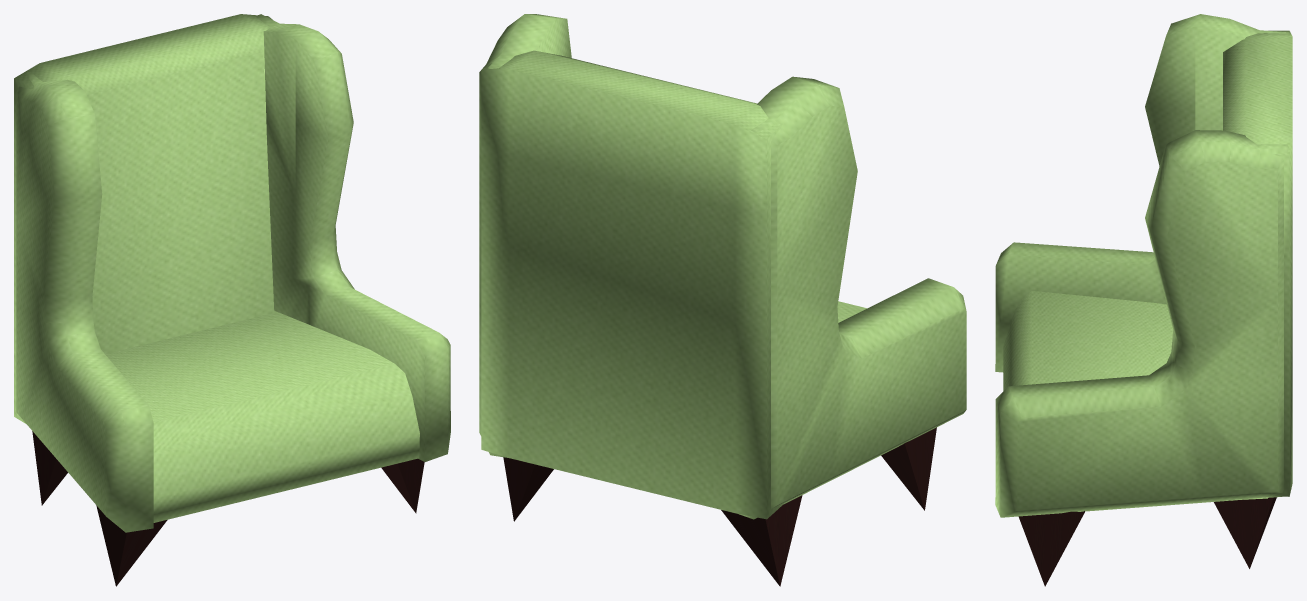
Rendered from Winged_Armchair_A_2.FBX.
The picture shows the model from 3 angles, left to right: view 1: azimuth 30°, elevation 25°; view 2: azimuth 150°, elevation 25°; view 3: azimuth 270°, elevation 25°; orthographic projection. The views are drawn at different scales.
Visible parts, largest first — view 1: Winged_Armchair; view 2: Winged_Armchair; view 3: Winged_Armchair.
Boxes of the visible parts, bbox=[...] form: Winged_Armchair: bbox=[14, 14, 450, 586]; Winged_Armchair: bbox=[479, 14, 966, 586]; Winged_Armchair: bbox=[995, 14, 1292, 586].
Bounding box in the file's own units: 174 × 208 × 129.
